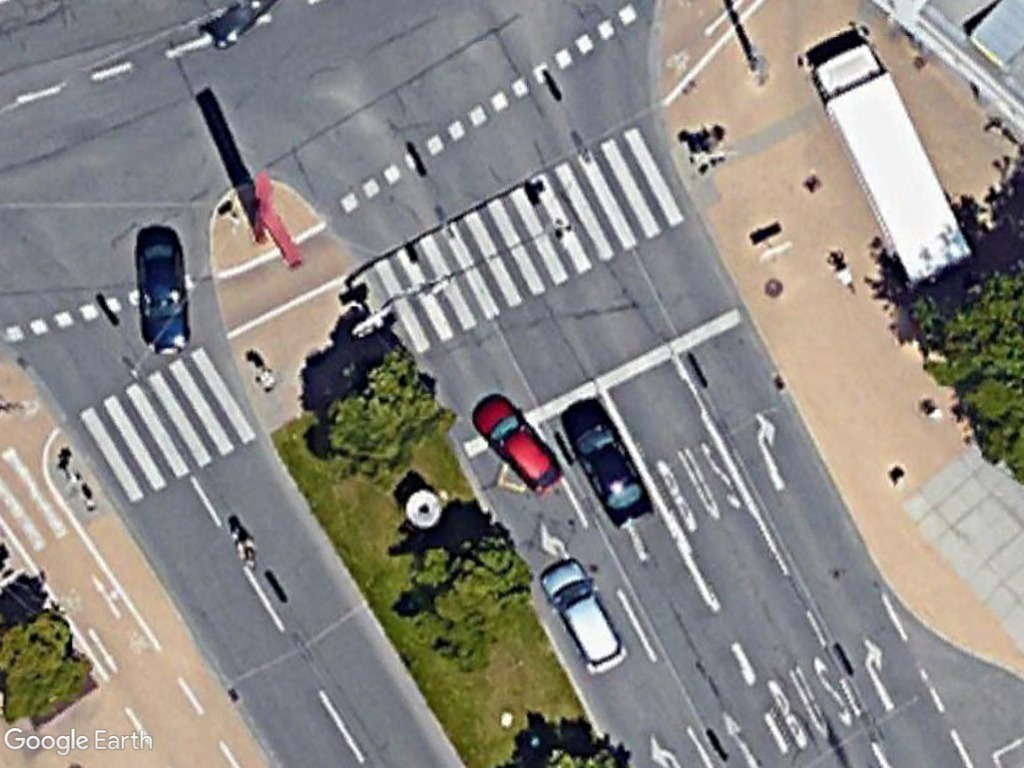car: (562, 398, 655, 530), (534, 554, 631, 678), (468, 391, 565, 496), (132, 220, 195, 360)
truck: (807, 40, 977, 290)
